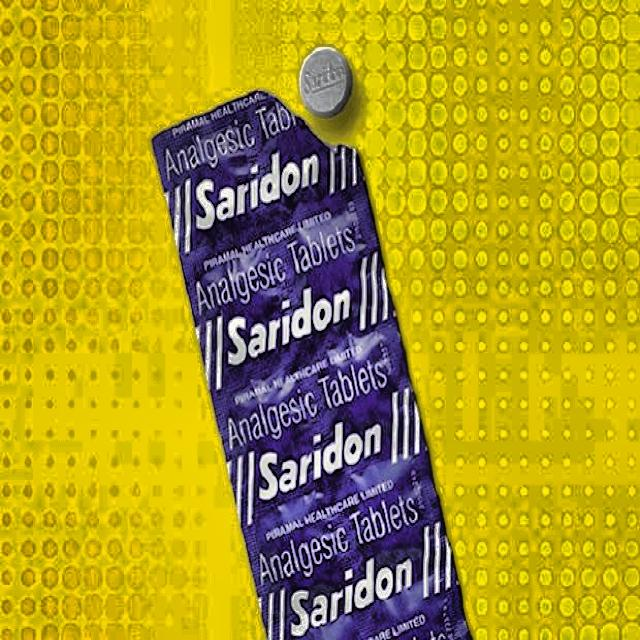Saridon: (152, 86, 474, 639)
